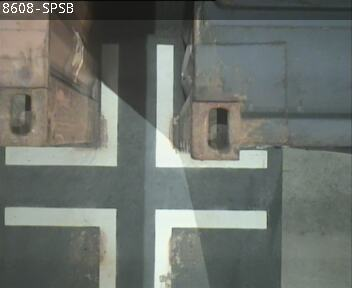groundmarker_1: (6, 45, 266, 167), (5, 207, 266, 288)
